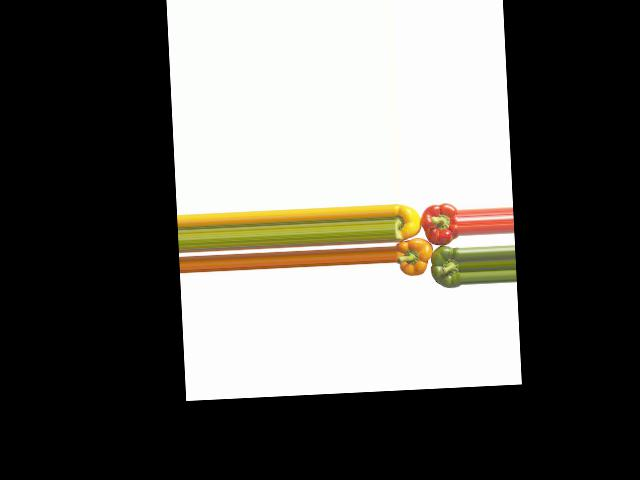bell_pepper: (392, 201, 424, 244)
